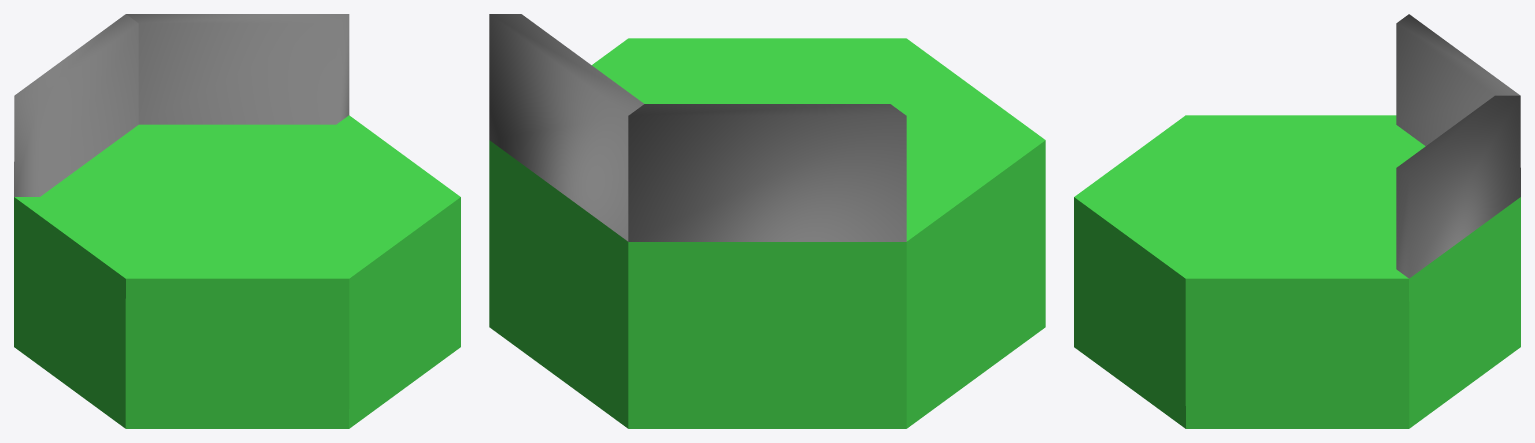
File: NormalTile_Stage1_2Wall.fbx
3 views of the same model, side by side, from view 1: azimuth 30°, elevation 25°; view 2: azimuth 150°, elevation 25°; view 3: azimuth 270°, elevation 25° (orthographic). The views are drawn at different scales.
Parts seen in each view (by area): view 1: NormalTile2Wall; view 2: NormalTile2Wall; view 3: NormalTile2Wall.
Part boxes in pixels (x1,y1,x2,y2): NormalTile2Wall: [14, 14, 460, 428]; NormalTile2Wall: [489, 14, 1045, 428]; NormalTile2Wall: [1074, 14, 1520, 428].
Bounding box in the file's own units: 173 × 124 × 200.
